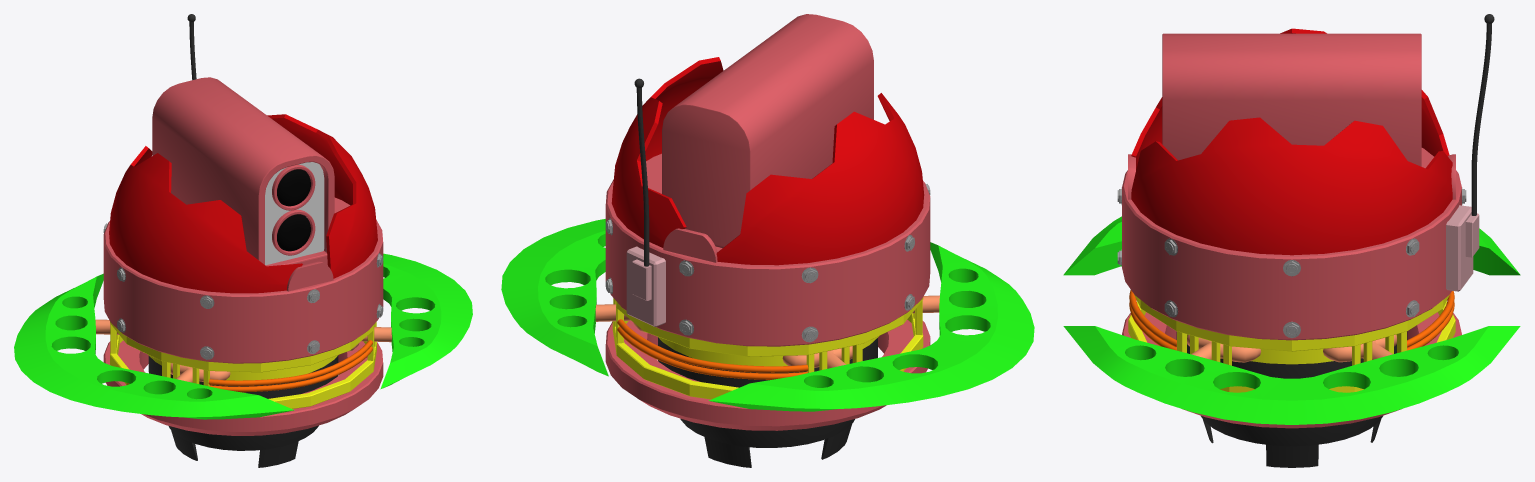
File: microBot1.fbx
The picture shows the model from 3 angles, left to right: view 1: azimuth 30°, elevation 25°; view 2: azimuth 150°, elevation 25°; view 3: azimuth 270°, elevation 25°; orthographic projection. The views are drawn at different scales.
Visible parts, largest first — view 1: microBot, microBot_lame; view 2: microBot, microBot_lame; view 3: microBot, microBot_lame.
Boxes of the visible parts, box(x1,y1,x2,y2) form: microBot: box(103, 14, 383, 467); microBot_lame: box(14, 253, 472, 419); microBot: box(605, 14, 930, 467); microBot_lame: box(501, 219, 1034, 411); microBot: box(1117, 14, 1494, 467); microBot_lame: box(1063, 216, 1520, 424).
Bounding box in the file's own units: 360 × 293 × 280.
